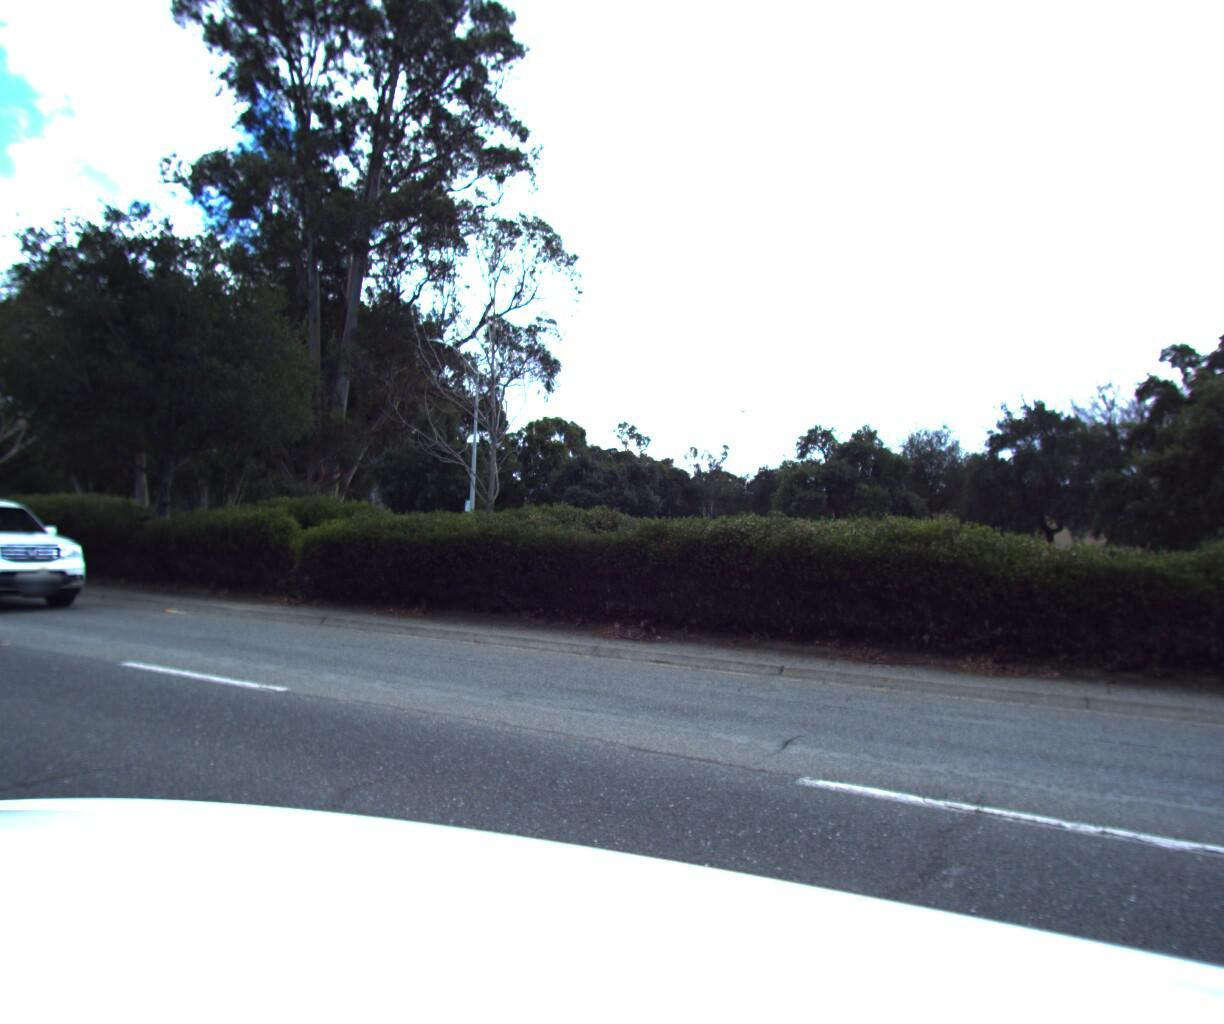car: (0, 492, 114, 626)
